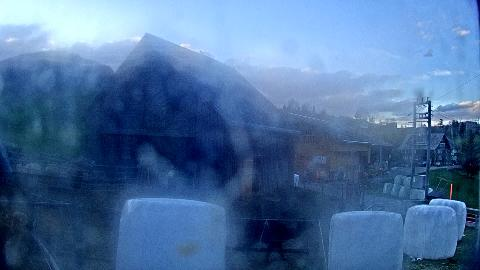car: (418, 161, 426, 167)
sheep: (237, 216, 316, 266), (0, 210, 28, 269), (0, 222, 14, 270), (22, 164, 42, 188), (70, 170, 84, 188), (45, 164, 61, 176)
